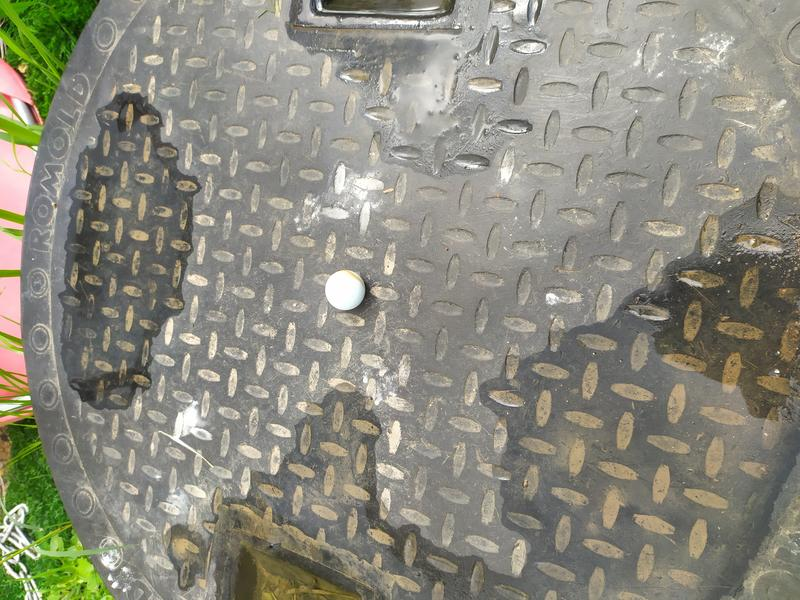Warning: (324, 268, 367, 312)
